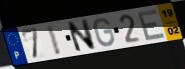2: (118, 13, 142, 44)
7: (19, 26, 40, 61)
E: (137, 8, 168, 43)
G: (93, 17, 117, 48)
I: (45, 24, 63, 57)
N: (65, 18, 98, 54)
